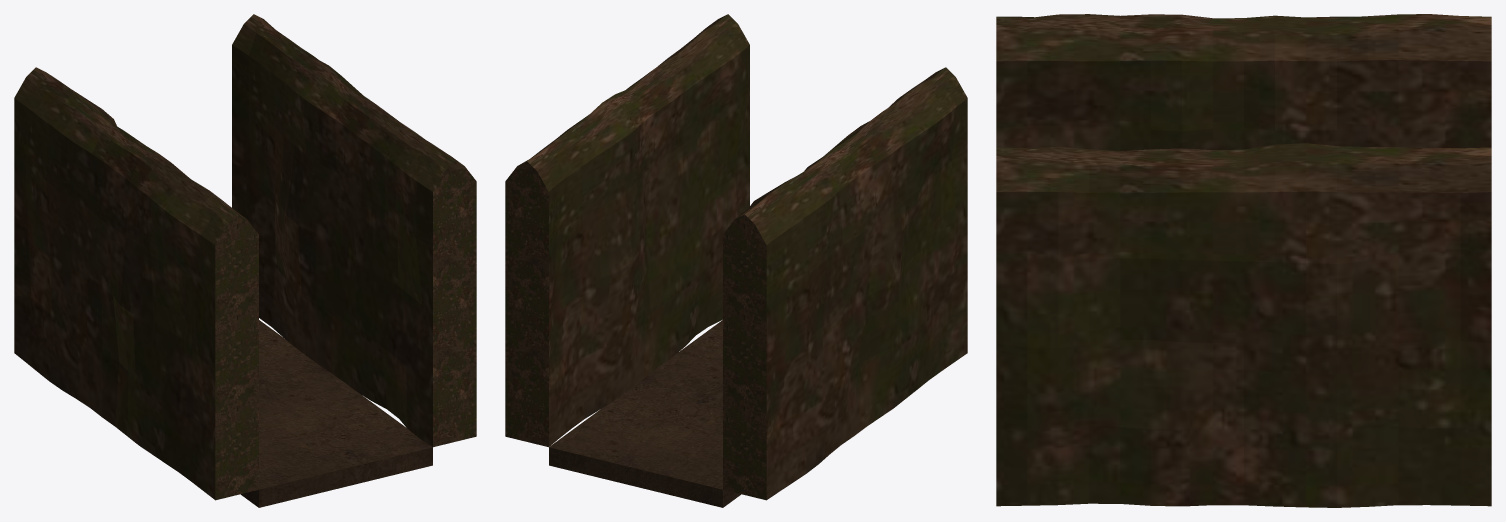
Rendered from cave_corridor_01_dirt.glb.
3 views of the same model, side by side, from view 1: azimuth 30°, elevation 25°; view 2: azimuth 150°, elevation 25°; view 3: azimuth 270°, elevation 25° (orthographic). The views are drawn at different scales.
Visible parts, largest first — view 1: cave_corridor_01_dirt; view 2: cave_corridor_01_dirt; view 3: cave_corridor_01_dirt.
Boxes of the visible parts, bbox=[...] form: cave_corridor_01_dirt: bbox=[14, 14, 476, 507]; cave_corridor_01_dirt: bbox=[505, 14, 967, 507]; cave_corridor_01_dirt: bbox=[996, 14, 1491, 507].
Bounding box in the file's own units: 3.18 × 3.32 × 4.
Materials: 2 (2 with a texture image).
